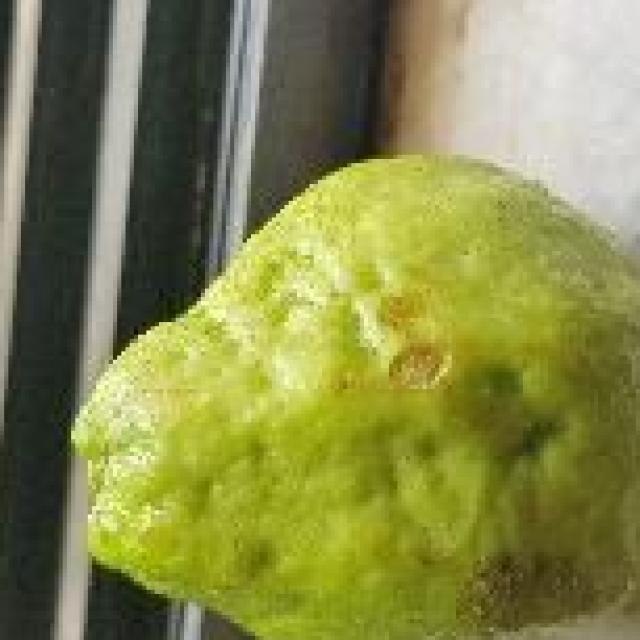Good_Guava 5-7 days: (73, 155, 640, 640)
